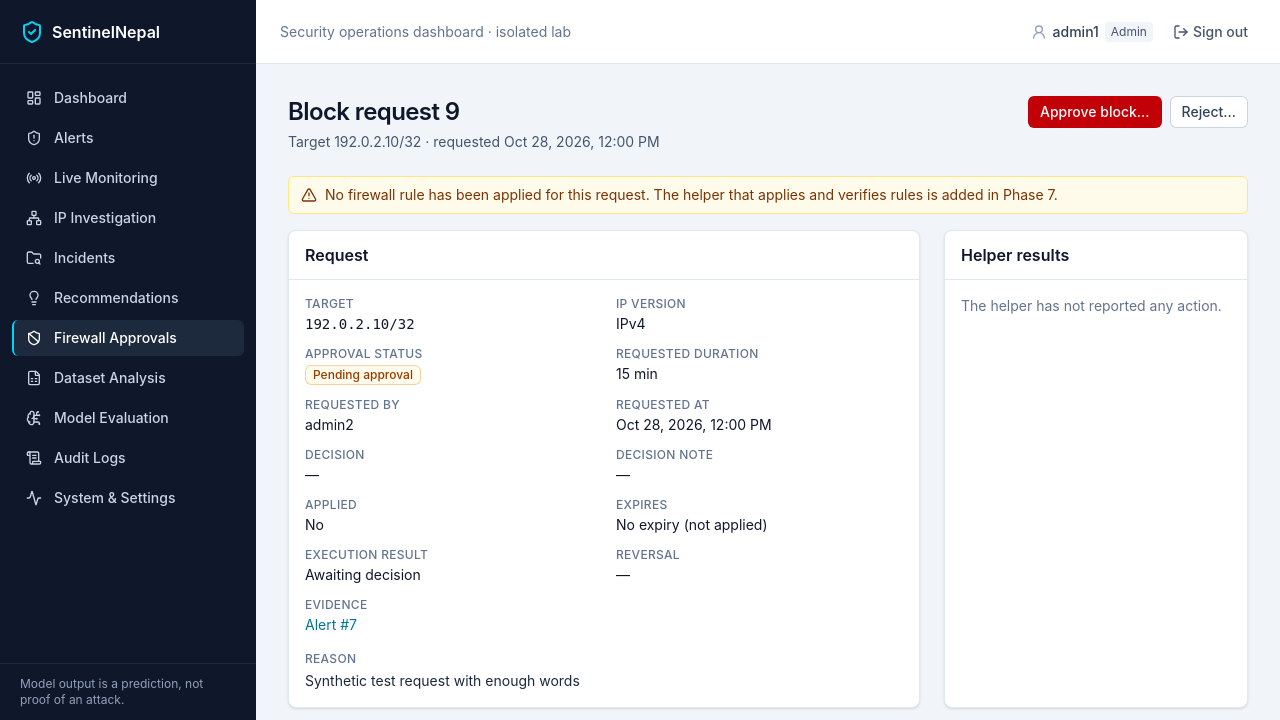
it: Firewall approvals › approves only after the admin types the exact target
Click the button "Approve block…".
click(1095, 112)  # box [1028,96,1162,128]
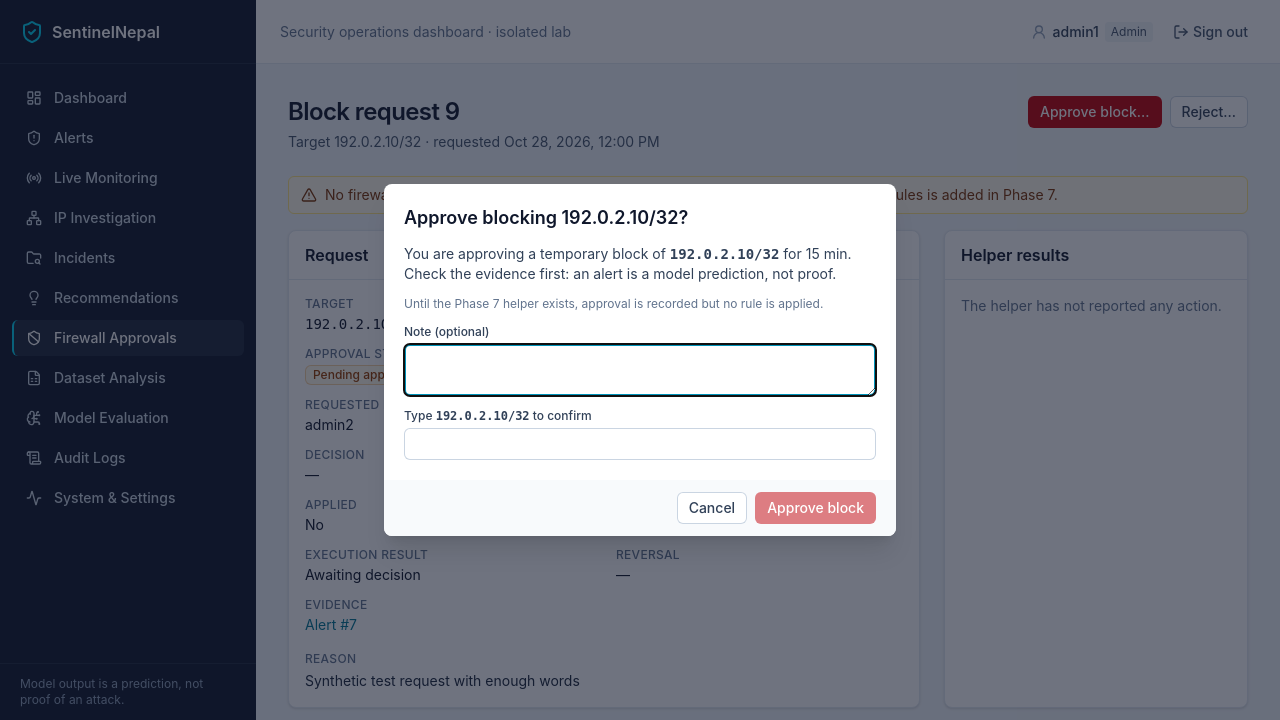
Check: the button "Approve block" is disabled, box [755,492,876,524]
Type "192.0.2.10/32" into the field labelled "Type 192.0.2.10/32 to confirm".
click(640, 444); type("192.0.2.10/32")  # box [404,428,876,460]
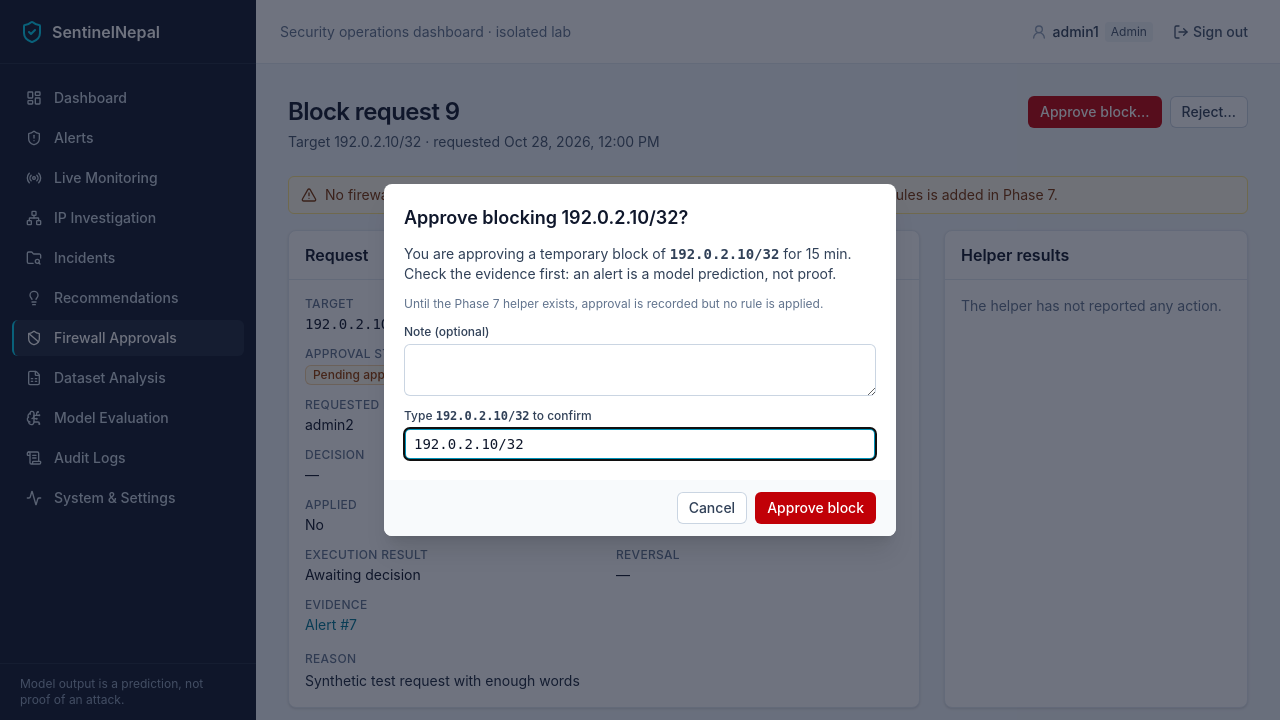
Click the button "Approve block".
click(816, 508)  # box [755,492,876,524]
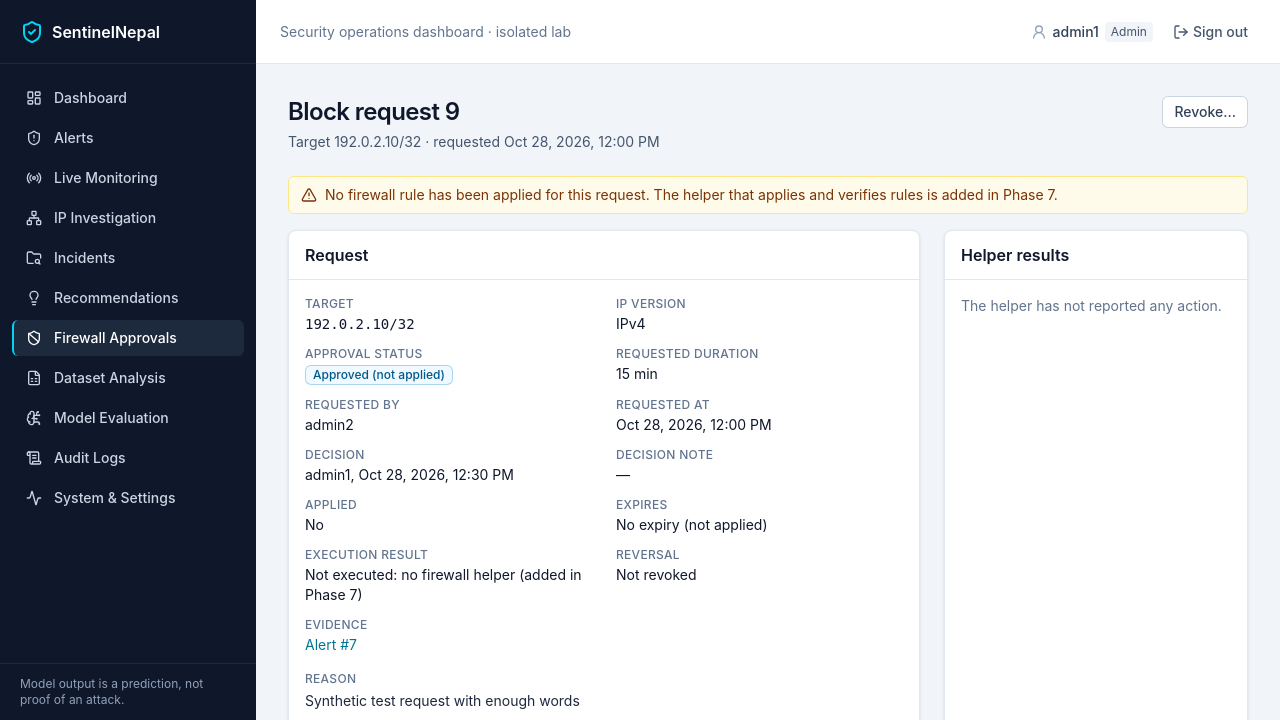
Check: the text "No firewall rule has been applied for this request." is shown, box [325,186,1058,203]
Check: the text "Approved (not applied)" is shown, box [305,365,453,385]
Check: the text "Not executed: no firewall helper (added in Phase 7)" is shown, box [305,565,592,605]
